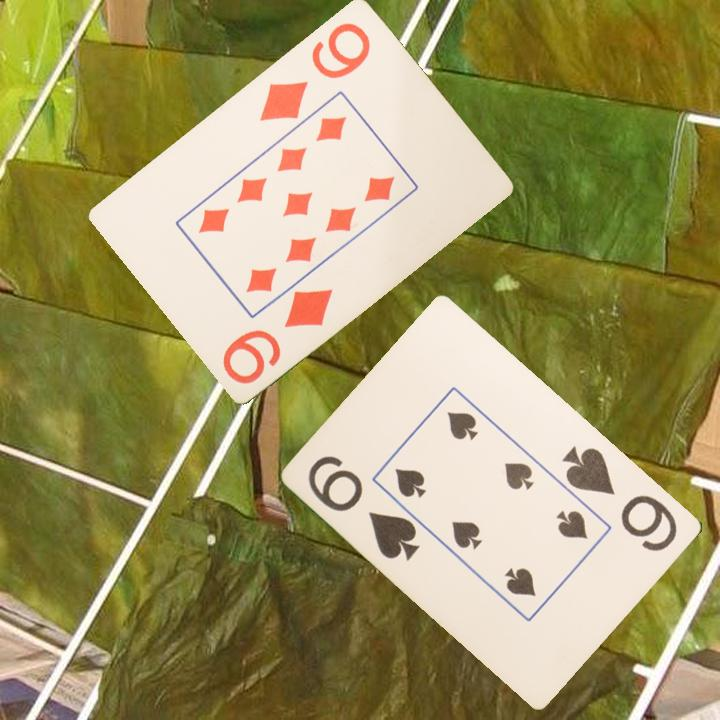6s: (558, 442, 681, 555), (304, 452, 424, 564)
9d: (256, 18, 374, 124), (218, 284, 336, 387)
